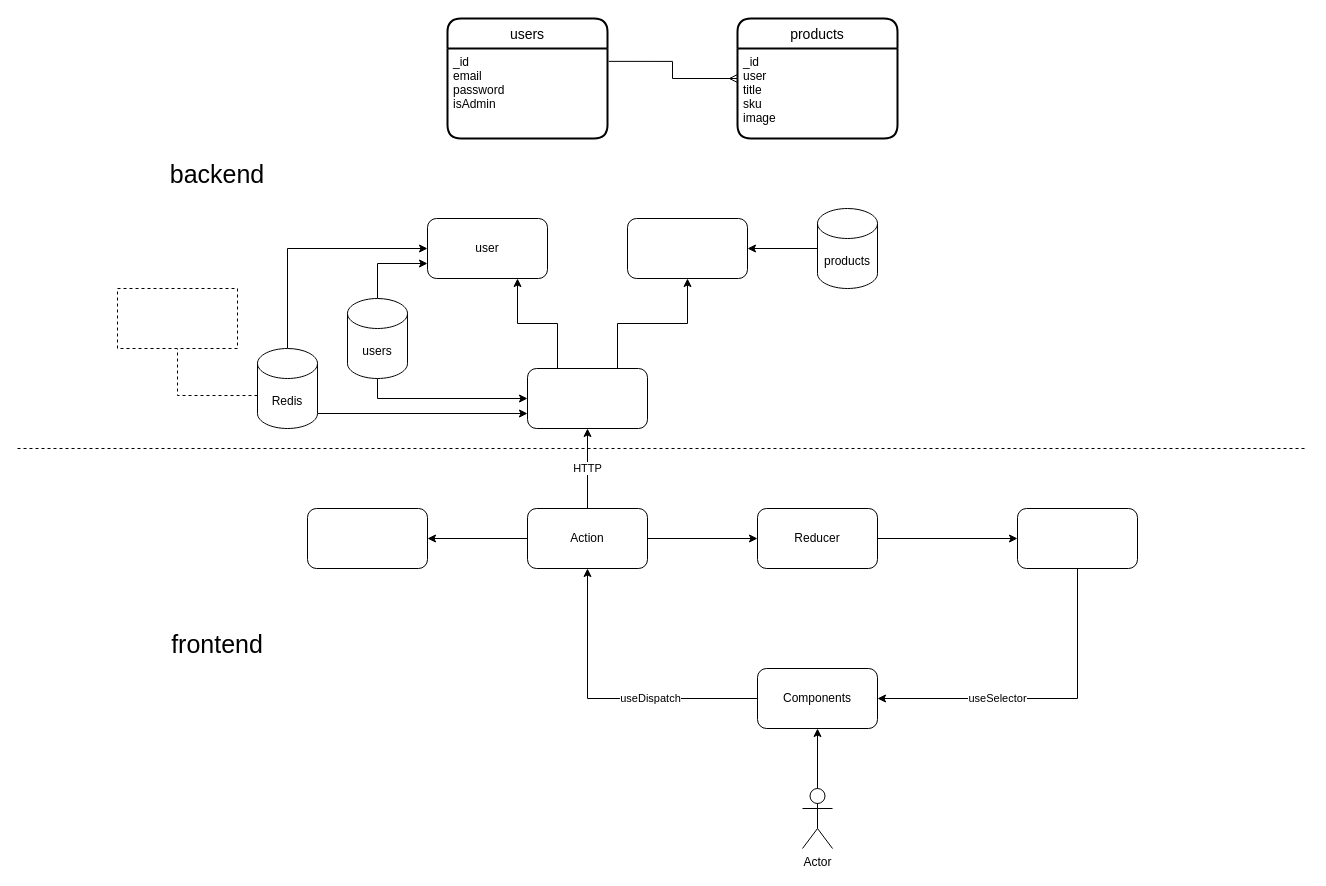
Image size: 1326x886. Some labels were removed from this diagram. The centre of each missing label's shape, as x and y in pixels:
auth middleware: the point at 587,398
Browser localStorage: the point at 367,538
jwt blacklist: the point at 177,318
product: the point at 687,248
Store: the point at 1077,538
